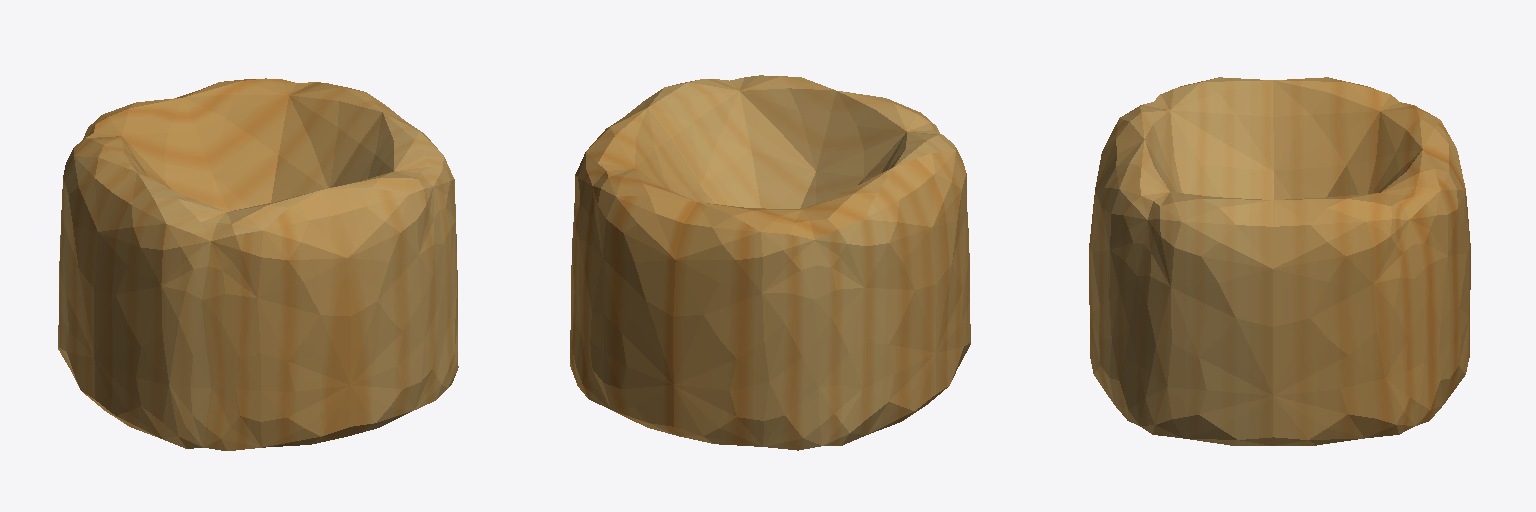
3 views of the same model, side by side, from view 1: azimuth 30°, elevation 25°; view 2: azimuth 150°, elevation 25°; view 3: azimuth 270°, elevation 25° (orthographic).
Visible parts, largest first — view 1: Cube; view 2: Cube; view 3: Cube.
Part boxes in pixels (left/top/right/bottom): Cube: left=58, top=78, right=458, bottom=450; Cube: left=570, top=75, right=970, bottom=450; Cube: left=1089, top=77, right=1470, bottom=445.
Size of the model in its own units: 5.37 by 3.6 by 5.37.
Materials: 1 (1 with a texture image).